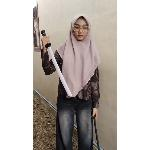Pedang: (41, 29, 76, 99)
